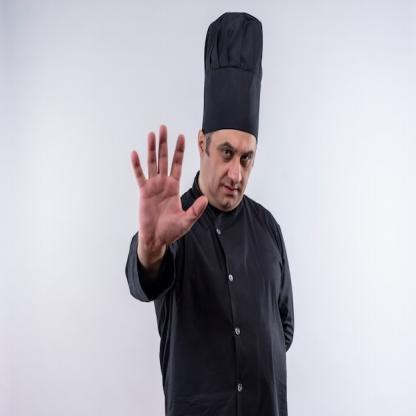stop: (128, 124, 209, 254)
